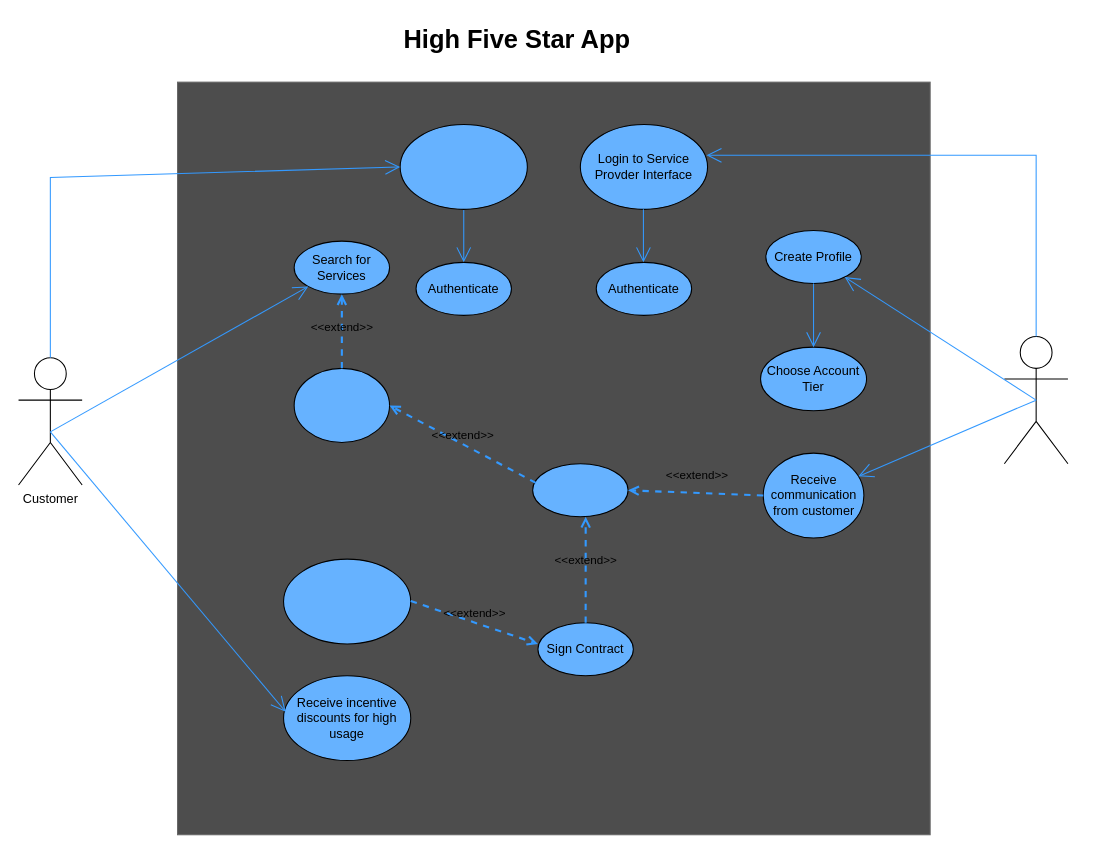
This 1101x853 diagram has some shape labels left out. Here are the shapes that lost their labels. From the top down, the centre of each, then its label:
At [463,166]: "Login to Customer interface".
At [341,405]: "Contact Service Provider".
At [1035,399]: "Service Provider".
At [580,490]: "Negotiate".
At [346,601]: "Submit review of service provider".
